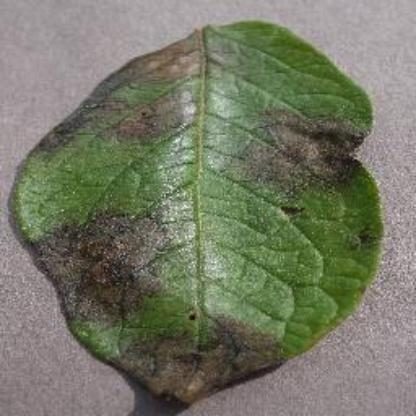Late-Blight: (10, 18, 386, 404)
